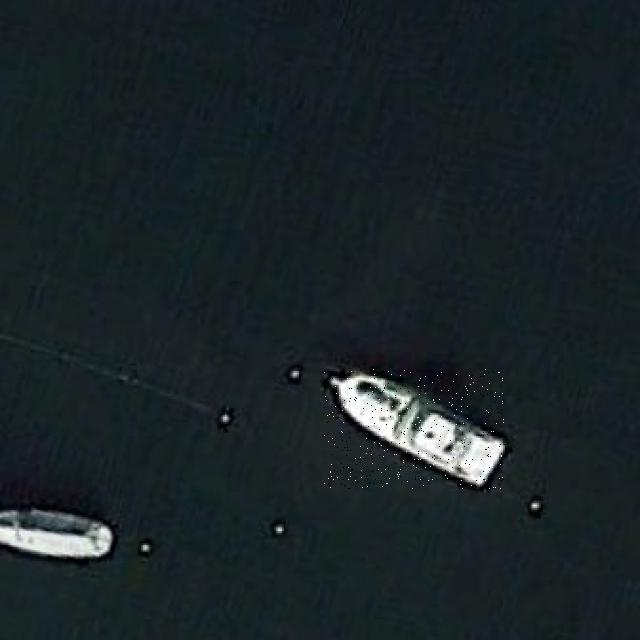boat: (324, 369, 505, 489)
